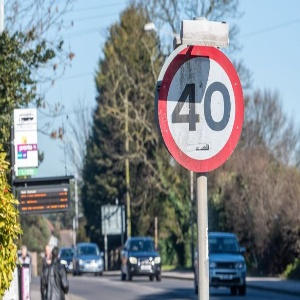40 speed: (158, 46, 244, 172)
